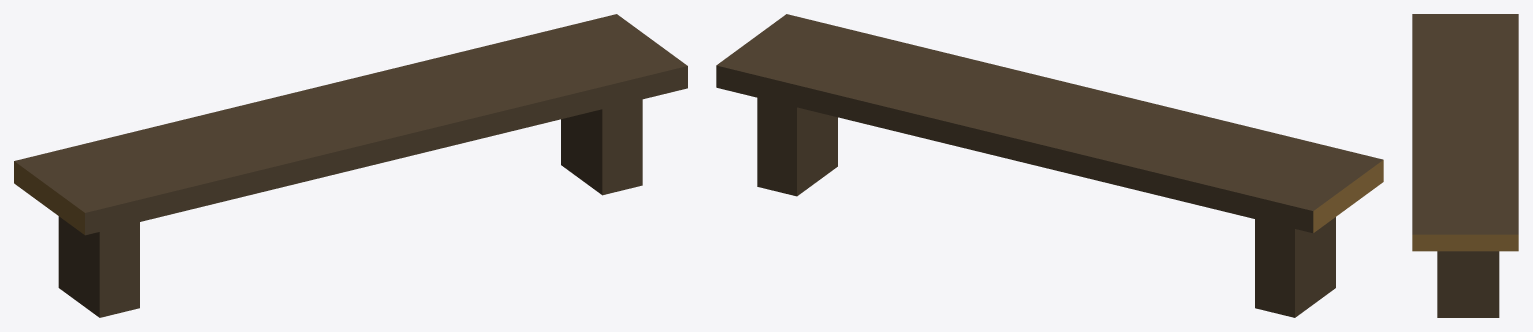
File: bench2.FBX
3 renders of one model, left to right at view 1: azimuth 30°, elevation 25°; view 2: azimuth 150°, elevation 25°; view 3: azimuth 270°, elevation 25°, orthographic. The views are drawn at different scales.
Parts seen in each view (by area): view 1: bench2; view 2: bench2; view 3: bench2.
Part boxes in pixels (x1=…): bench2: x1=14, y1=14, x2=687, y2=317; bench2: x1=716, y1=14, x2=1383, y2=317; bench2: x1=1412, y1=14, x2=1518, y2=317.
Size of the model in its own units: 9.77 by 1.94 by 1.99.
